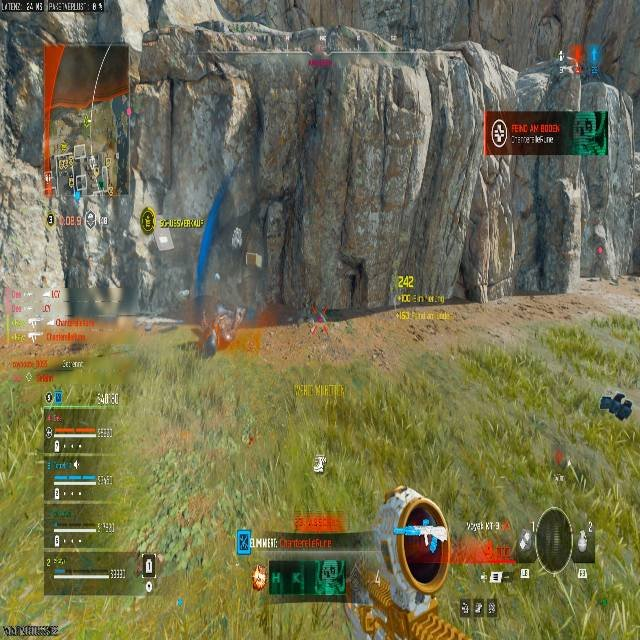player: (346, 256, 366, 305)
